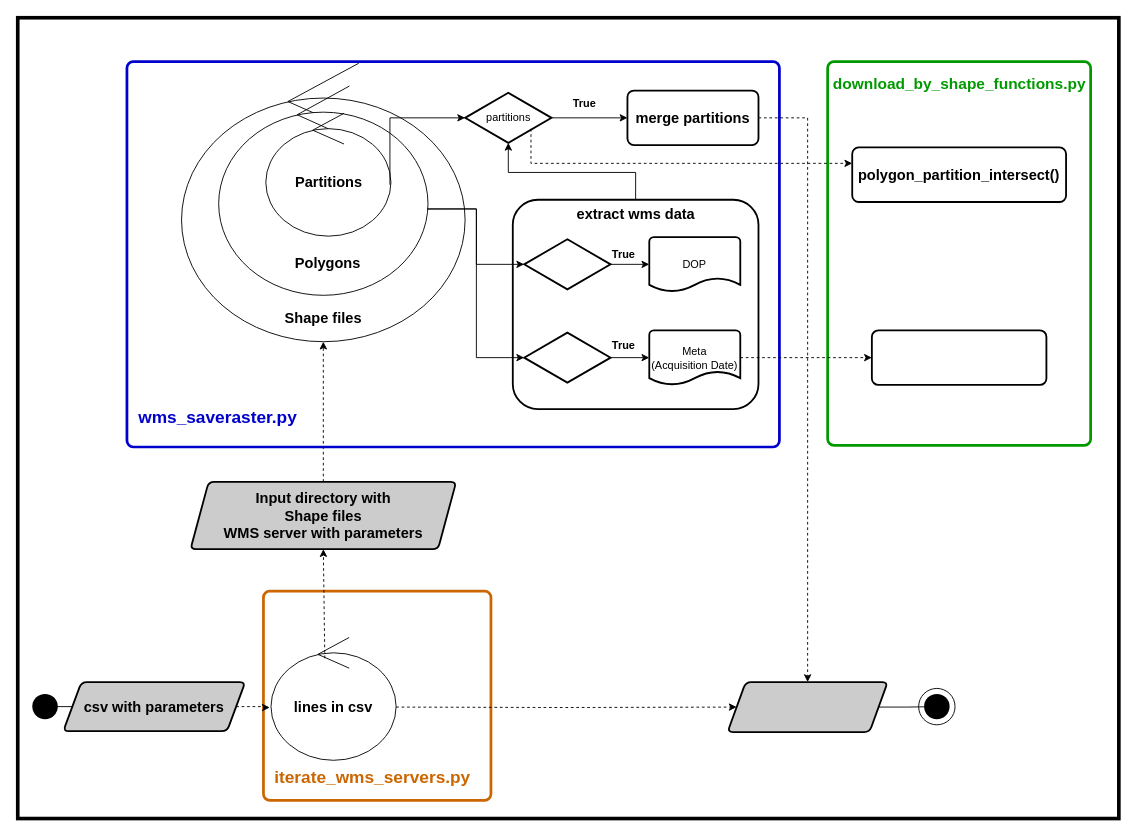
This 1136x835 diagram has some shape labels left out. Each missing label, with the box of its shape:
DOPs and/or acquisition dates: (726, 681, 888, 733)
extract DOP: (523, 238, 611, 290)
extract Meta: (523, 331, 611, 383)
get_acquisition_date(): (871, 329, 1047, 385)
